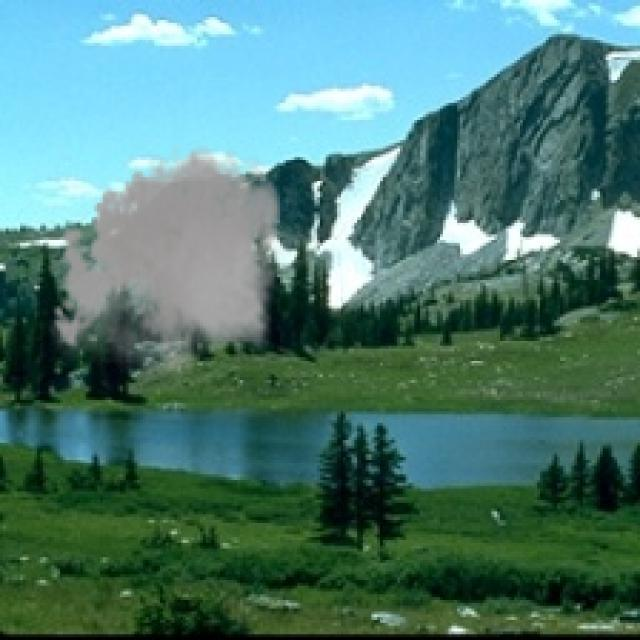Smoke: (46, 137, 292, 389)
